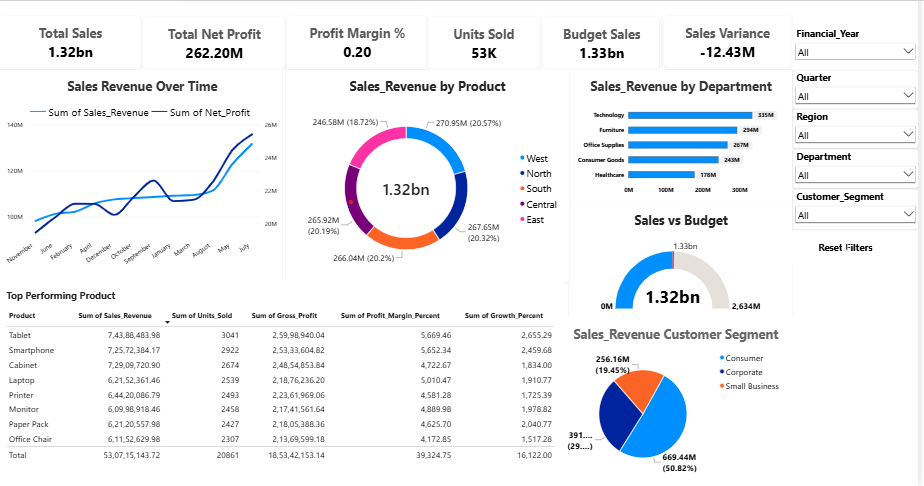

What the dashboard file says about the page in this screenshot:
{"tool":"powerbi","page":{"name":"Page 1","canvas":[1920,1080],"ordinal":0},"visuals":[{"type":"cardVisual","fields":{"Data":["Sales_Financial_datasets.Total Sales"]},"box":[0,97.5,300,112.5],"z":0},{"type":"cardVisual","fields":{"Data":["Sales_Financial_datasets.Total Net Profit"]},"box":[300,100,300,112.5],"z":1000},{"type":"cardVisual","fields":{"Data":["Sales_Financial_datasets.Total Units Sold"]},"box":[895,100,235,112.5],"z":2000},{"type":"cardVisual","fields":{"Data":["Sales_Financial_datasets.Total Budget Sales"]},"box":[1135,100,247.5,112.5],"z":3000},{"type":"cardVisual","fields":{"Data":["Sales_Financial_datasets.Total Sales Variance"]},"box":[1387.5,97.5,267.5,112.5],"z":4000},{"type":"cardVisual","fields":{"Data":["Sales_Financial_datasets.Profit Margin %"]},"box":[600,97.5,295,112.5],"z":5000},{"type":"lineChart","title":"Sales Revenue Over Time","fields":{"Category":["Sales_Financial_datasets.Month"],"Y":["Sum(Sales_Financial_datasets.Sales_Revenue)"],"Y2":["Sum(Sales_Financial_datasets.Net_Profit)"]},"box":[0,212.5,600,440],"z":6000},{"type":"slicer","fields":{"Values":["Sales_Financial_datasets.Financial_Year"]},"box":[1655,120,264.4,71.1],"z":7000},{"type":"slicer","fields":{"Values":["Sales_Financial_datasets.Quarter"]},"box":[1655,212.5,264.4,82.2],"z":8000},{"type":"slicer","fields":{"Values":["Sales_Financial_datasets.Region"]},"box":[1655,295,264.4,82.2],"z":9000},{"type":"slicer","fields":{"Values":["Sales_Financial_datasets.Department"]},"box":[1655,377.5,264.4,82.2],"z":10000},{"type":"slicer","fields":{"Values":["Sales_Financial_datasets.Customer_Segment"]},"box":[1655,460,265,85],"z":11000},{"type":"barChart","title":"Sales_Revenue by Department","fields":{"Category":["Sales_Financial_datasets.Department"],"Y":["Sum(Sales_Financial_datasets.Sales_Revenue)"]},"box":[1190,212.5,465,280],"z":12000},{"type":"gauge","title":"Sales vs Budget","fields":{"TargetValue":["Sum(Sales_Financial_datasets.Budget_Sales)"],"Y":["Sum(Sales_Financial_datasets.Sales_Revenue)"]},"box":[1190,492.5,465,240],"z":13000},{"type":"donutChart","title":"Sales_Revenue by Product","fields":{"Category":["Sales_Financial_datasets.Region"],"Y":["Sum(Sales_Financial_datasets.Sales_Revenue)"]},"box":[600,212.5,590,442.5],"z":14000},{"type":"pieChart","title":"Sales_Revenue Customer Segment","fields":{"Category":["Sales_Financial_datasets.Customer_Segment"],"Y":["Sum(Sales_Financial_datasets.Sales_Revenue)"]},"box":[1170,730,485,350],"z":15000},{"type":"tableEx","title":"Top Performing Product","fields":{"Values":["Sales_Financial_datasets.Product","Sum(Sales_Financial_datasets.Sales_Revenue)","Sum(Sales_Financial_datasets.Units_Sold)","Sum(Sales_Financial_datasets.Gross_Profit)","Sum(Sales_Financial_datasets.Profit_Margin_Percent)","Sum(Sales_Financial_datasets.Growth_Percent)"]},"box":[0,652.5,1180,427.5],"z":16000},{"type":"actionButton","box":[1655,550,222.5,62.5],"z":17000},{"type":"textbox","box":[1655,905,222.5,175],"z":18000},{"type":"textbox","box":[1655,730,223,350],"z":18001},{"type":"textbox","box":[0,0,1900,97.5],"z":18002}]}

Visuals, with their boxes on the page's 1920x1080 design canvas (x1, y1, x2, y2). These are canvas units, not pixel positions in the 924x486 screenshot, which may show the page scaled, cropped or inside an application window:
cardVisual - Sales_Financial_datasets.Total Sales: select_region(0, 98, 300, 210)
cardVisual - Sales_Financial_datasets.Total Net Profit: select_region(300, 100, 600, 212)
cardVisual - Sales_Financial_datasets.Total Units Sold: select_region(895, 100, 1130, 212)
cardVisual - Sales_Financial_datasets.Total Budget Sales: select_region(1135, 100, 1382, 212)
cardVisual - Sales_Financial_datasets.Total Sales Variance: select_region(1388, 98, 1655, 210)
cardVisual - Sales_Financial_datasets.Profit Margin %: select_region(600, 98, 895, 210)
"Sales Revenue Over Time" lineChart: select_region(0, 212, 600, 652)
slicer - Sales_Financial_datasets.Financial_Year: select_region(1655, 120, 1919, 191)
slicer - Sales_Financial_datasets.Quarter: select_region(1655, 212, 1919, 295)
slicer - Sales_Financial_datasets.Region: select_region(1655, 295, 1919, 377)
slicer - Sales_Financial_datasets.Department: select_region(1655, 378, 1919, 460)
slicer - Sales_Financial_datasets.Customer_Segment: select_region(1655, 460, 1920, 545)
"Sales_Revenue by Department" barChart: select_region(1190, 212, 1655, 492)
"Sales vs Budget" gauge: select_region(1190, 492, 1655, 732)
"Sales_Revenue by Product" donutChart: select_region(600, 212, 1190, 655)
"Sales_Revenue Customer Segment" pieChart: select_region(1170, 730, 1655, 1080)
"Top Performing Product" tableEx: select_region(0, 652, 1180, 1080)
actionButton: select_region(1655, 550, 1878, 612)
textbox: select_region(1655, 905, 1878, 1080)
textbox: select_region(1655, 730, 1878, 1080)
textbox: select_region(0, 0, 1900, 98)
